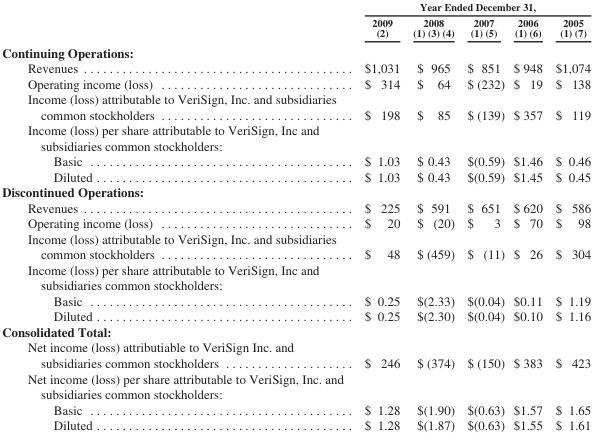table: (1, 0, 590, 431)
table column: (1, 0, 349, 431), (349, 0, 405, 431), (405, 0, 460, 431), (460, 0, 508, 431), (548, 0, 590, 431), (508, 0, 548, 431)
table column header: (1, 0, 590, 41)
table projected row header: (1, 122, 590, 153), (1, 261, 590, 292), (1, 370, 590, 401), (1, 41, 590, 60), (1, 323, 590, 339), (1, 184, 590, 199)
table row: (1, 91, 590, 122), (1, 122, 590, 153), (1, 230, 590, 261), (1, 261, 590, 292), (1, 339, 590, 370), (1, 370, 590, 401), (1, 14, 590, 41), (1, 41, 590, 60), (1, 75, 590, 91), (1, 168, 590, 184), (1, 199, 590, 215), (1, 292, 590, 308), (1, 323, 590, 339), (1, 60, 590, 75), (1, 153, 590, 168), (1, 184, 590, 199), (1, 215, 590, 230), (1, 308, 590, 323), (1, 401, 590, 416), (1, 416, 590, 431), (1, 0, 590, 14)
table spanning cell: (349, 0, 590, 14)
